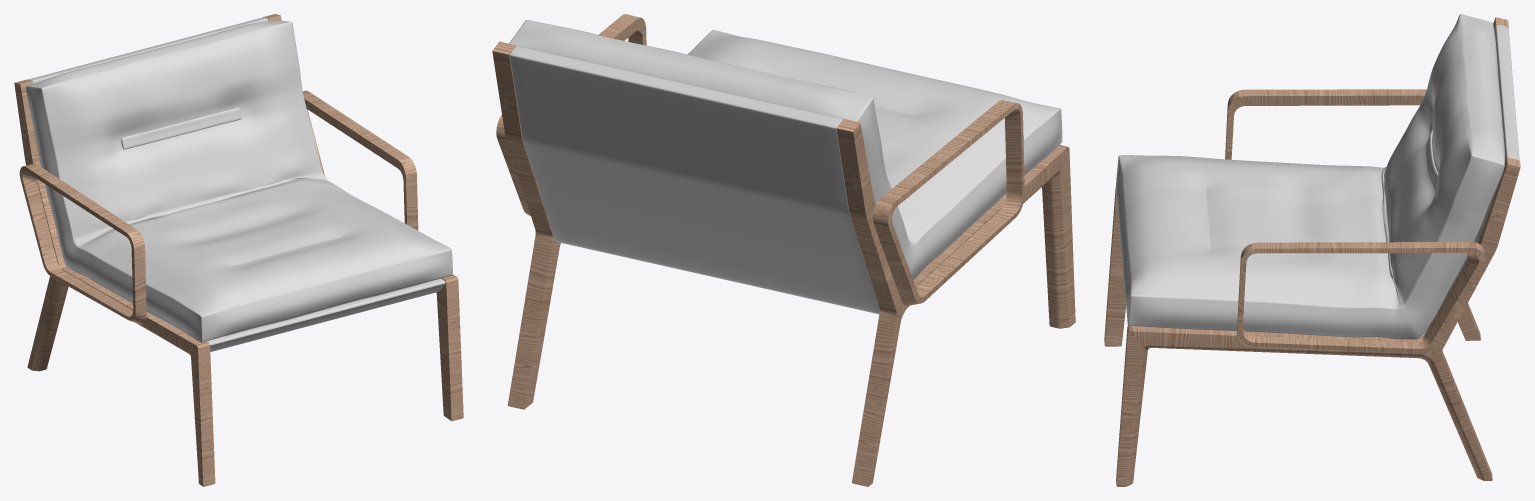
Rendered from Chair1.0_(White).glb.
3 views of the same model, side by side, from view 1: azimuth 30°, elevation 25°; view 2: azimuth 150°, elevation 25°; view 3: azimuth 270°, elevation 25° (orthographic). The views are drawn at different scales.
Visible parts, largest first — view 1: Almofada_Couro_0_n3d, Madeira (2)_Madeira_0_n3d; view 2: Almofada_Couro_0_n3d, Madeira (2)_Madeira_0_n3d; view 3: Almofada_Couro_0_n3d, Madeira (2)_Madeira_0_n3d.
Boxes of the visible parts, x1=… form: Almofada_Couro_0_n3d: x1=26, y1=17, x2=452, y2=351; Madeira (2)_Madeira_0_n3d: x1=14, y1=14, x2=463, y2=486; Almofada_Couro_0_n3d: x1=509, y1=20, x2=1062, y2=314; Madeira (2)_Madeira_0_n3d: x1=492, y1=14, x2=1075, y2=486; Almofada_Couro_0_n3d: x1=1116, y1=14, x2=1519, y2=339; Madeira (2)_Madeira_0_n3d: x1=1104, y1=17, x2=1520, y2=486.
Bounding box in the file's own units: 0.7653 × 0.7105 × 0.8228.
Materials: 2 (1 with a texture image).
